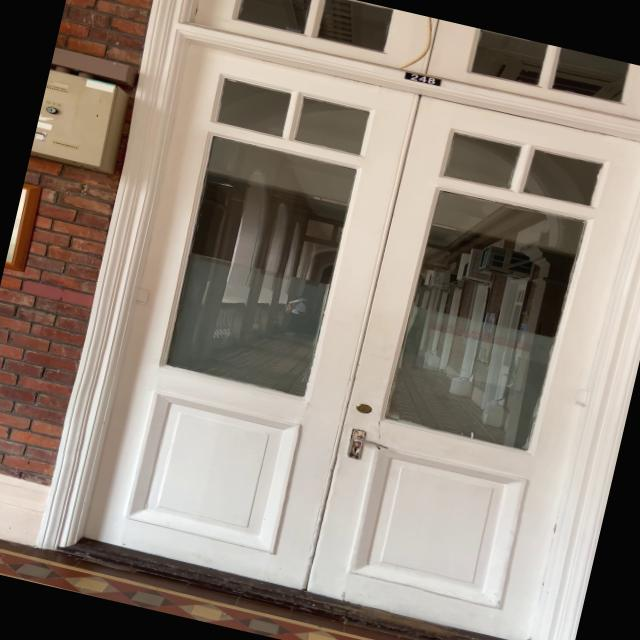room248: (397, 65, 452, 93)
